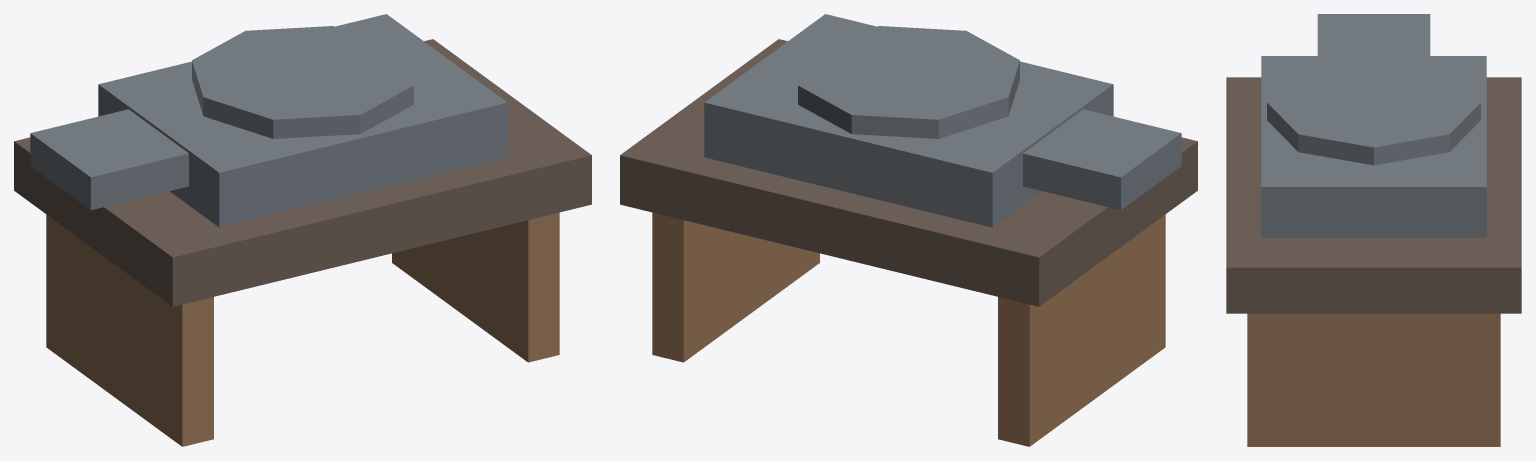
Rendered from blacksmith_anvil.glb.
3 renders of one model, left to right at view 1: azimuth 30°, elevation 25°; view 2: azimuth 150°, elevation 25°; view 3: azimuth 270°, elevation 25°, orthographic. The views are drawn at different scales.
Visible parts, largest first — view 1: blacksmith_anvil; view 2: blacksmith_anvil; view 3: blacksmith_anvil.
Part boxes in pixels (left/top/right/bottom): blacksmith_anvil: left=14, top=14, right=591, bottom=446; blacksmith_anvil: left=620, top=14, right=1197, bottom=446; blacksmith_anvil: left=1226, top=14, right=1521, bottom=446.
Size of the model in its own units: 1.73 by 1.01 by 1.05.
